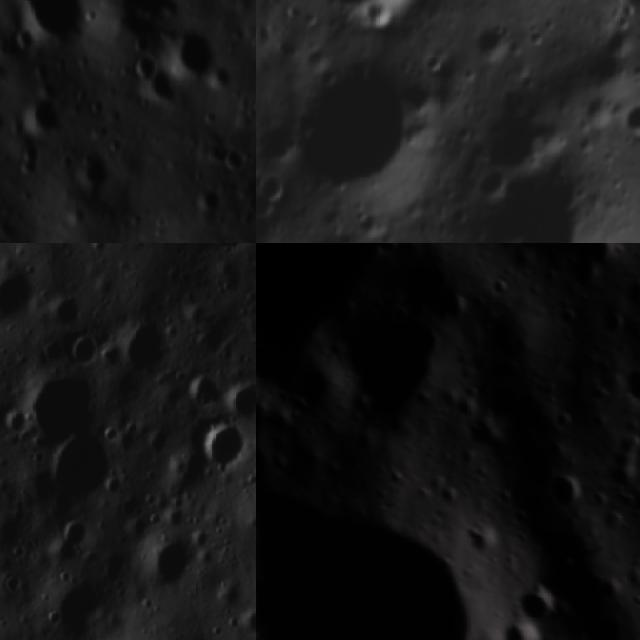crater: (267, 35, 463, 228), (256, 492, 493, 640), (443, 142, 629, 243), (337, 304, 465, 440), (457, 73, 575, 191), (308, 0, 449, 50), (0, 0, 85, 43), (530, 464, 592, 517), (256, 317, 276, 475), (199, 419, 256, 473), (41, 447, 104, 495), (555, 243, 619, 282), (137, 542, 198, 582), (161, 29, 219, 70), (514, 579, 558, 630), (222, 362, 256, 411), (614, 89, 640, 153), (61, 520, 95, 554), (619, 264, 640, 310), (188, 369, 210, 406), (7, 402, 29, 439), (14, 142, 37, 176), (72, 333, 96, 365), (198, 243, 256, 256), (626, 360, 640, 409), (130, 52, 156, 78), (218, 146, 238, 175), (629, 518, 640, 559)
